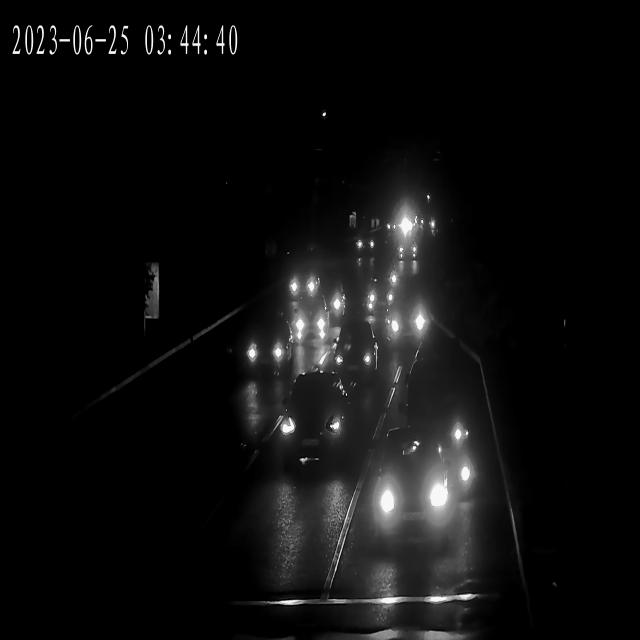Car: (363, 450, 458, 542), (276, 371, 359, 464), (237, 326, 293, 377), (333, 327, 376, 381), (385, 300, 435, 344), (308, 274, 346, 321), (286, 306, 328, 348), (285, 267, 323, 300), (366, 281, 398, 310), (352, 234, 377, 258), (395, 239, 419, 261)
